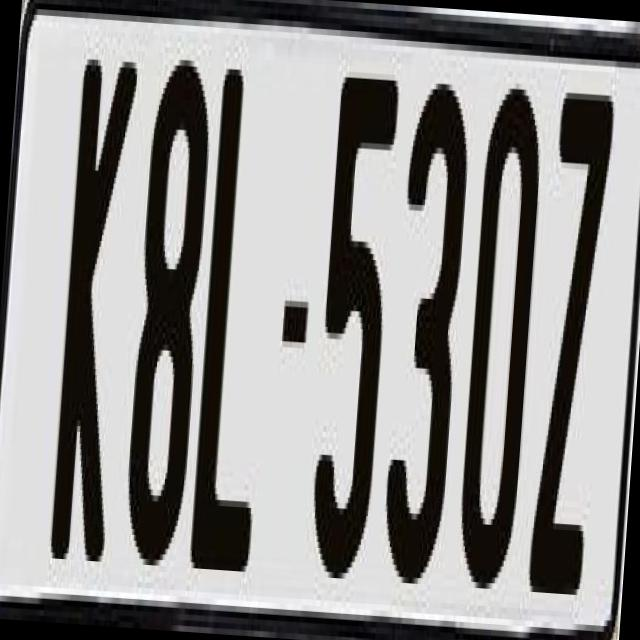0: (449, 86, 546, 602)
3: (375, 70, 477, 597)
5: (306, 77, 409, 598)
8: (118, 57, 212, 584)
K: (48, 47, 138, 556)
L: (189, 62, 285, 572)
Z: (526, 80, 620, 601)
